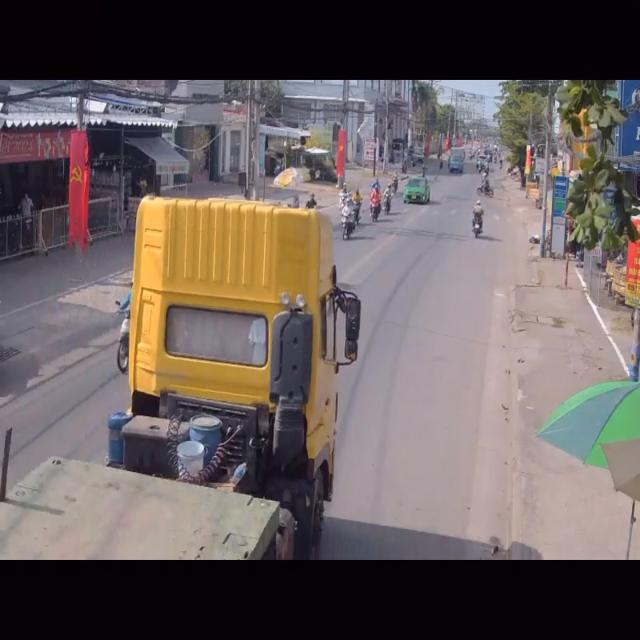car: (405, 174, 430, 206)
motorbike: (340, 201, 355, 244), (470, 199, 483, 239), (352, 189, 362, 226)
truck: (0, 195, 352, 562)
